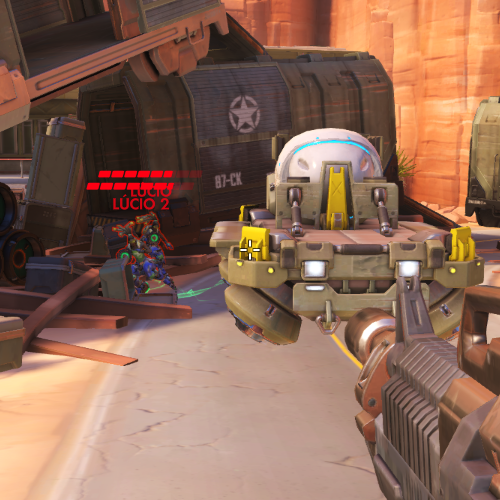hpbar: (86, 182, 195, 190), (97, 170, 202, 178)
